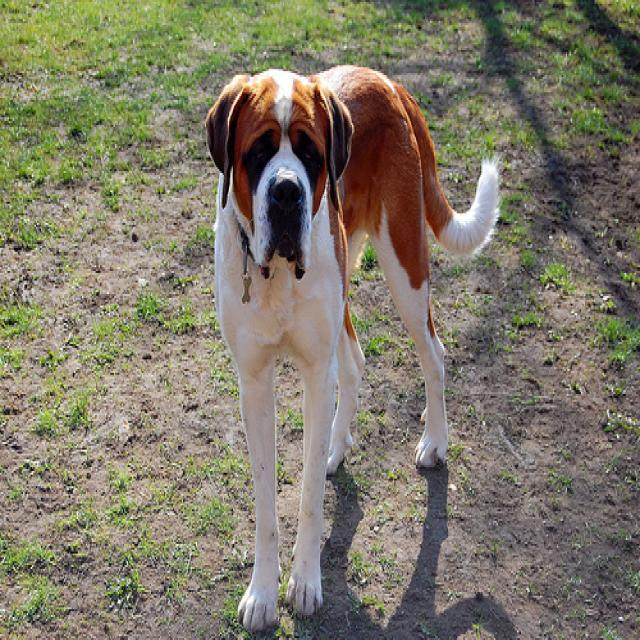dog-saint_bernard: (196, 58, 507, 636)
